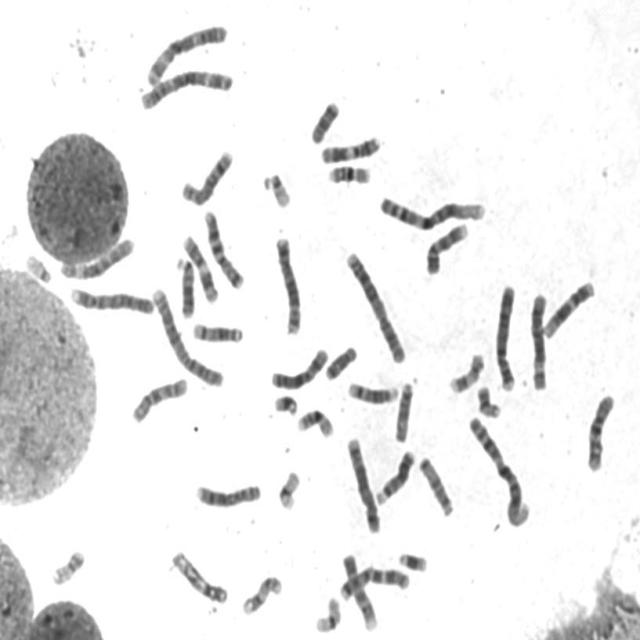A1: (464, 412, 532, 529), (374, 189, 488, 231)
A2: (147, 283, 226, 389), (342, 245, 408, 365)
A3: (141, 18, 230, 88), (135, 63, 235, 111)
B4: (491, 279, 519, 393), (66, 282, 155, 316)
B5: (342, 431, 382, 535), (271, 230, 303, 336)
C10: (127, 372, 189, 425), (582, 388, 617, 474)
C11: (178, 230, 219, 304), (316, 131, 382, 164)
C12: (167, 545, 229, 605), (540, 275, 597, 339)
C6: (56, 231, 136, 282), (526, 288, 550, 392)
C7: (199, 205, 245, 291), (335, 561, 412, 601)
C8: (177, 144, 234, 207), (191, 477, 263, 509)
C9: (338, 548, 379, 632), (421, 218, 470, 276)
D13: (372, 445, 417, 507), (171, 251, 196, 320)
D14: (343, 377, 400, 405), (188, 317, 244, 345)
D15: (415, 451, 455, 518), (390, 377, 415, 444)
E16: (293, 404, 335, 439), (324, 159, 372, 186)
E17: (238, 571, 284, 617), (445, 347, 486, 396)
E18: (306, 95, 341, 145), (321, 340, 359, 382)
F19: (311, 592, 342, 634), (273, 465, 301, 511)
F20: (47, 543, 86, 587), (473, 381, 502, 419)
G21: (395, 546, 428, 574), (270, 390, 300, 417)
G22: (258, 167, 293, 210), (21, 248, 53, 285)
X: (266, 342, 330, 392)
